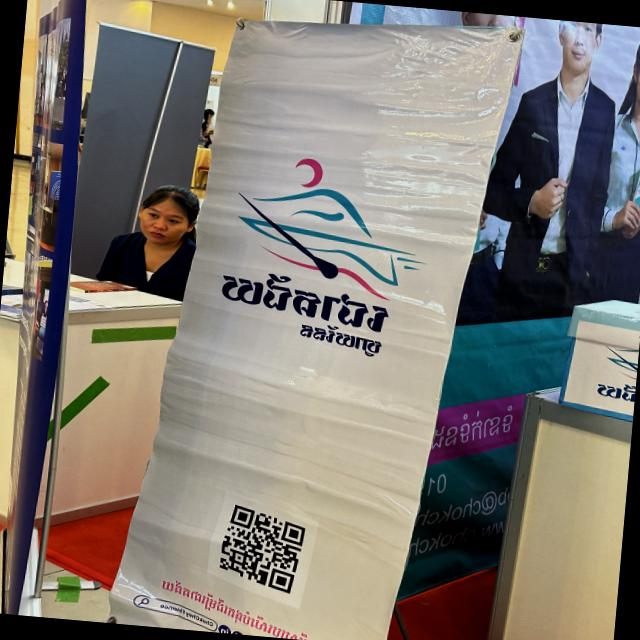Yolov11_80vkh: (213, 264, 400, 341), (293, 322, 388, 361)
